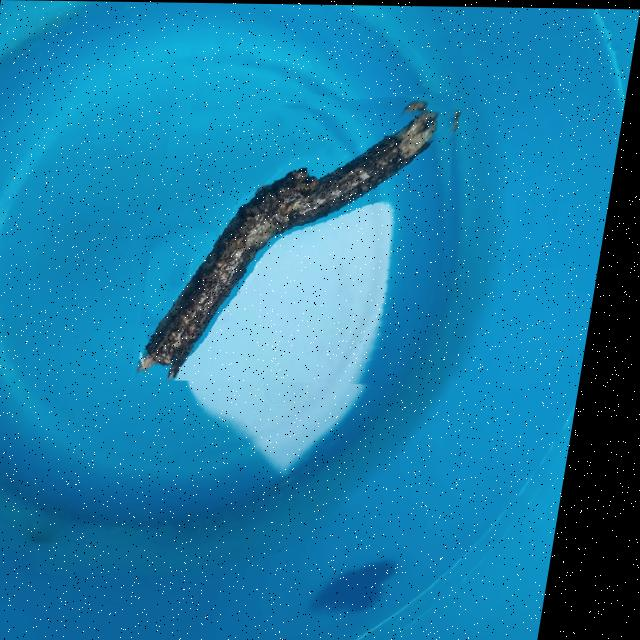wood: (141, 87, 483, 383)
